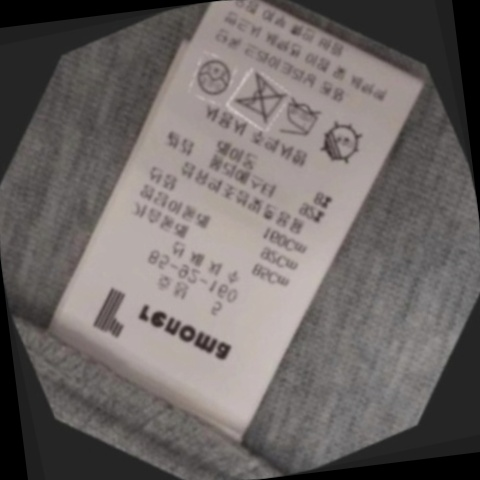DN_wash: (209, 52, 307, 147)
dry_clean_petrol_only: (172, 37, 252, 116)
iron_low: (257, 77, 345, 162)
line_dry_in_shade: (292, 100, 385, 189)
